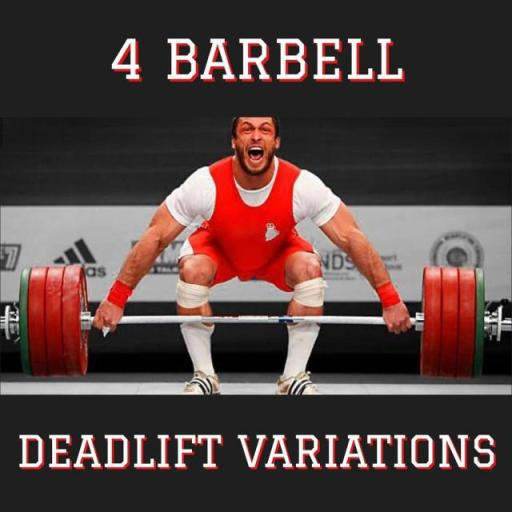Adidas: (50, 235, 105, 279)
